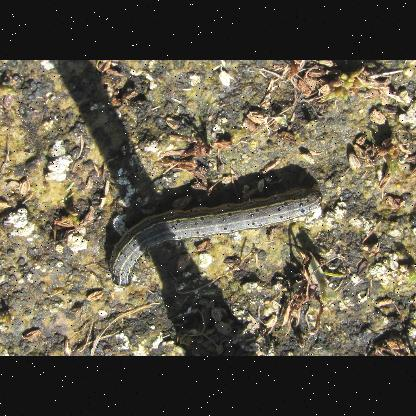Fall Armyworm Larvae: (107, 185, 325, 289)
